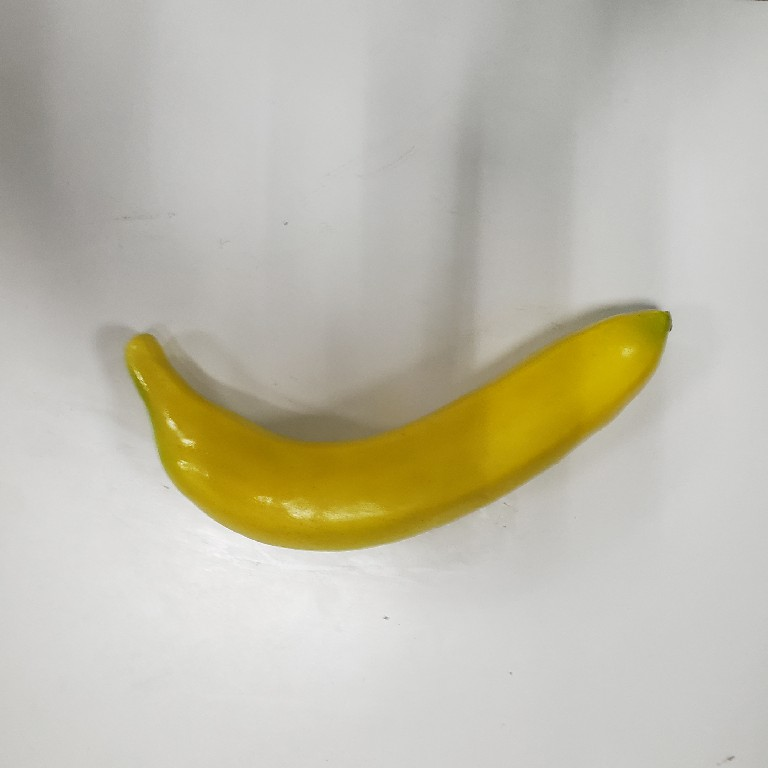fruit_banana: (114, 305, 676, 555)
